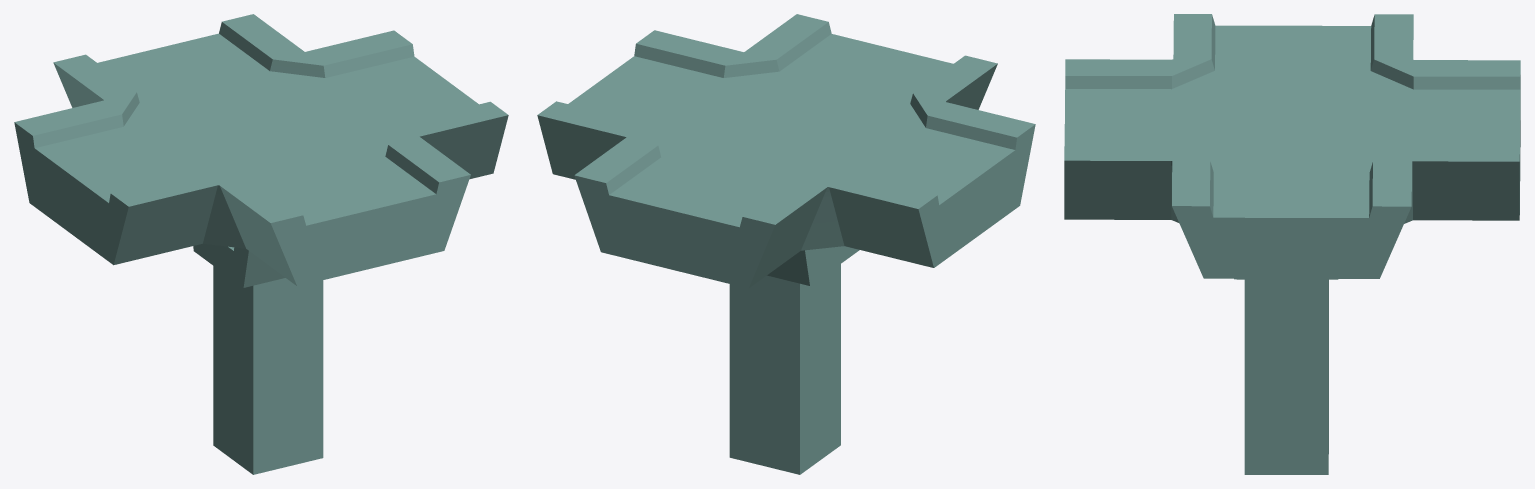
File: street quad.fbx
3 renders of one model, left to right at view 1: azimuth 30°, elevation 25°; view 2: azimuth 150°, elevation 25°; view 3: azimuth 270°, elevation 25°, orthographic. The views are drawn at different scales.
Parts seen in each view (by area): view 1: street quad; view 2: street quad; view 3: street quad.
Part boxes in pixels (x1,y1,x2,y2): street quad: (14, 14, 508, 474); street quad: (537, 14, 1035, 474); street quad: (1064, 14, 1520, 474).
Size of the model in its own units: 2715 by 2268 by 2719.
